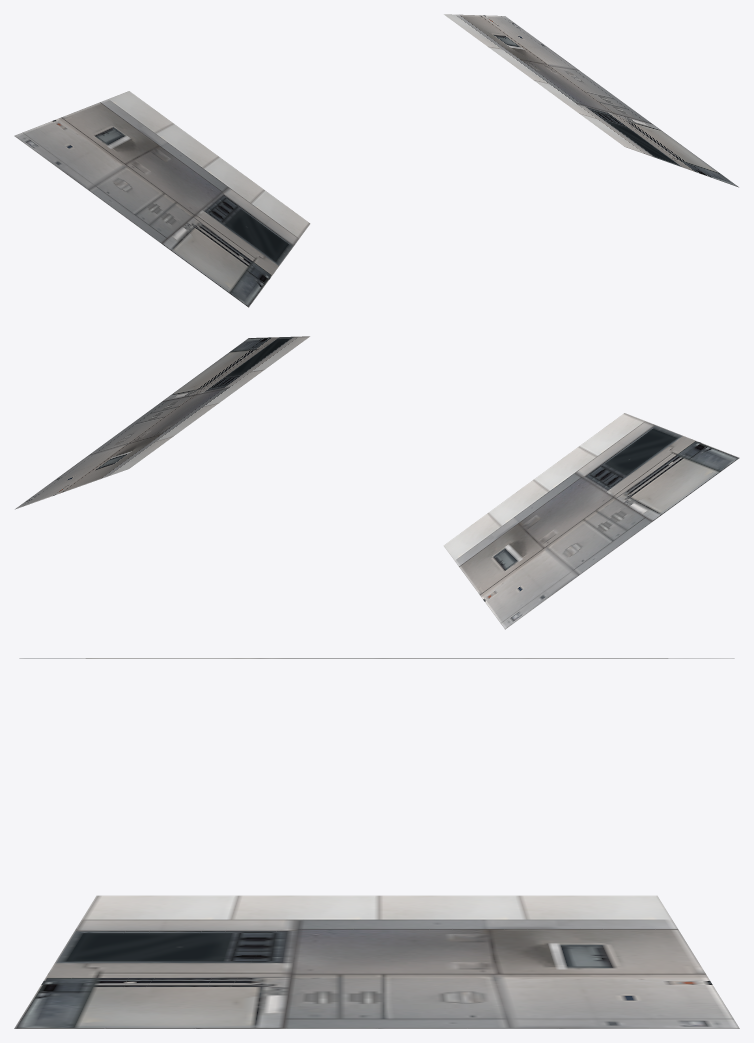
File: SM_SYD_Photocopier_glow.fbx
3 renders of one model, top to bottom at view 1: azimuth 30°, elevation 25°; view 2: azimuth 150°, elevation 25°; view 3: azimuth 270°, elevation 25°, orthographic. The views are drawn at different scales.
Parts seen in each view (by area): view 1: SM_SYD_Photocopier_glow; view 2: SM_SYD_Photocopier_glow; view 3: SM_SYD_Photocopier_glow.
Boxes of the visible parts, bbox=[...] form: SM_SYD_Photocopier_glow: bbox=[14, 14, 738, 307]; SM_SYD_Photocopier_glow: bbox=[15, 336, 739, 629]; SM_SYD_Photocopier_glow: bbox=[14, 658, 739, 1028].
Bounding box in the file's own units: 119 × 9.97 × 98.79.
